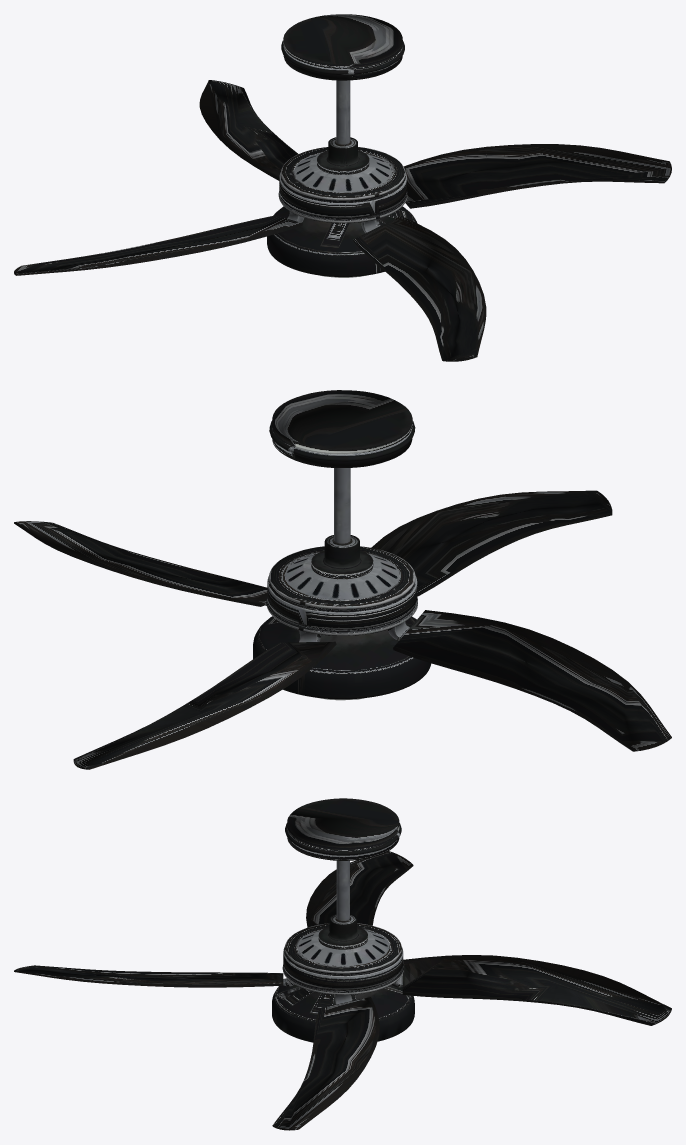
The model's file is ceiling_fan.glb.
The picture shows the model from 3 angles, top to bottom: view 1: azimuth 30°, elevation 25°; view 2: azimuth 150°, elevation 25°; view 3: azimuth 270°, elevation 25°; orthographic projection. The views are drawn at different scales.
Parts seen in each view (by area): view 1: ceiling_fan_blades, ceiling_fan; view 2: ceiling_fan_blades, ceiling_fan; view 3: ceiling_fan_blades, ceiling_fan.
Part boxes in pixels (left/top/right/bottom): ceiling_fan_blades: left=14, top=80, right=671, bottom=361; ceiling_fan: left=267, top=14, right=417, bottom=277; ceiling_fan_blades: left=14, top=490, right=671, bottom=769; ceiling_fan: left=253, top=390, right=431, bottom=700; ceiling_fan_blades: left=14, top=851, right=671, bottom=1130; ceiling_fan: left=272, top=798, right=414, bottom=1042.
Bounding box in the file's own units: 1.46 × 0.5163 × 1.46.
1 material, 1 textured.
